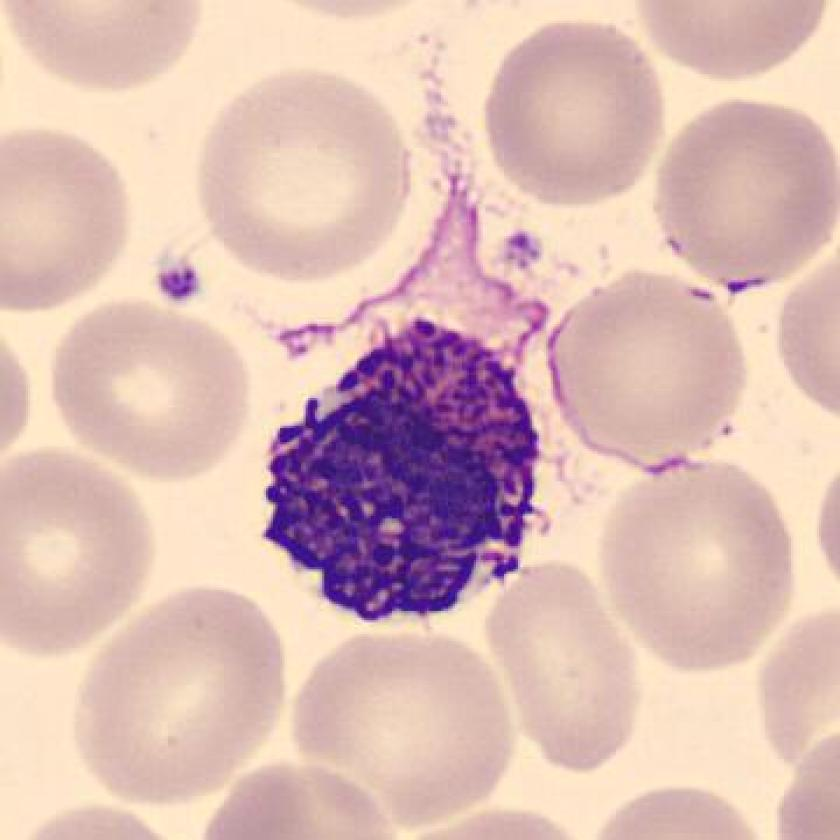basophil: (255, 309, 559, 626)
